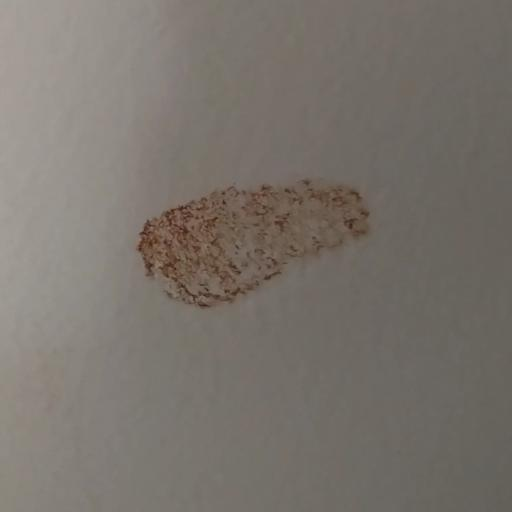stain: (91, 146, 385, 326)
